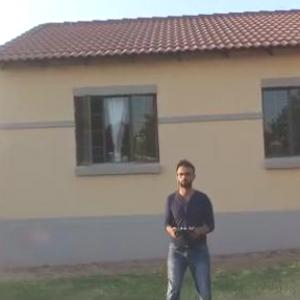follow: (160, 156, 223, 299)
